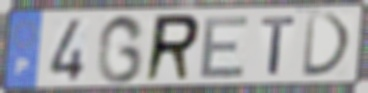4: (47, 16, 88, 85)
D: (300, 12, 355, 80)
E: (197, 13, 252, 81)
G: (94, 12, 147, 86)
R: (142, 12, 204, 84)
T: (259, 15, 299, 77)
